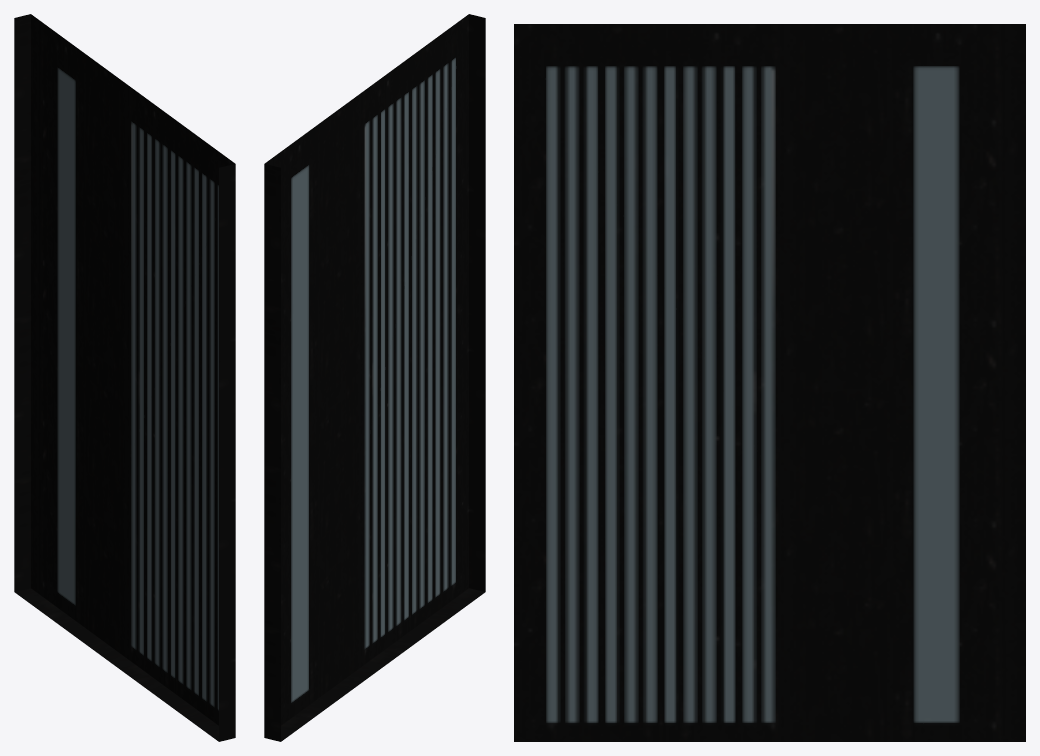
The model's file is KotoHouse_05.fbx.
3 renders of one model, left to right at view 1: azimuth 30°, elevation 25°; view 2: azimuth 150°, elevation 25°; view 3: azimuth 270°, elevation 25°, orthographic. The views are drawn at different scales.
Visible parts, largest first — view 1: SM_KotoHouse004; view 2: SM_KotoHouse004; view 3: SM_KotoHouse004.
Part boxes in pixels (bbox=[...]): SM_KotoHouse004: bbox=[14, 14, 235, 741]; SM_KotoHouse004: bbox=[264, 14, 485, 741]; SM_KotoHouse004: bbox=[514, 24, 1025, 741].
Bounding box in the file's own units: 4.8 × 160 × 103.
1 material, 1 textured.
